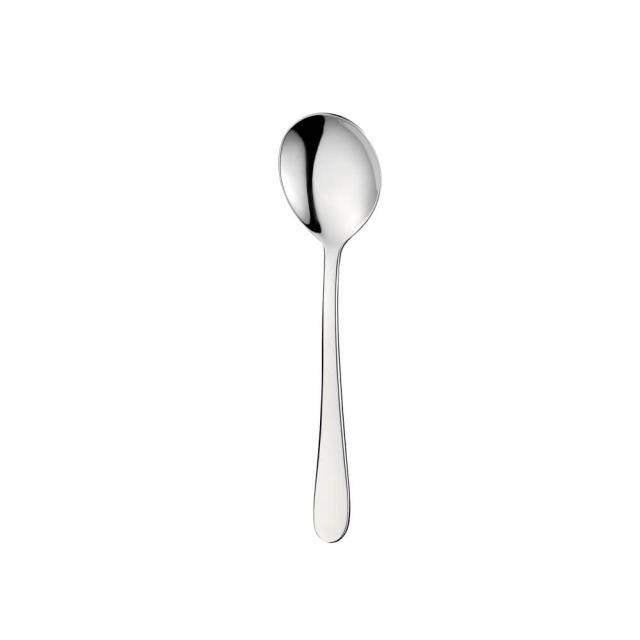spoon: (258, 96, 397, 568)
